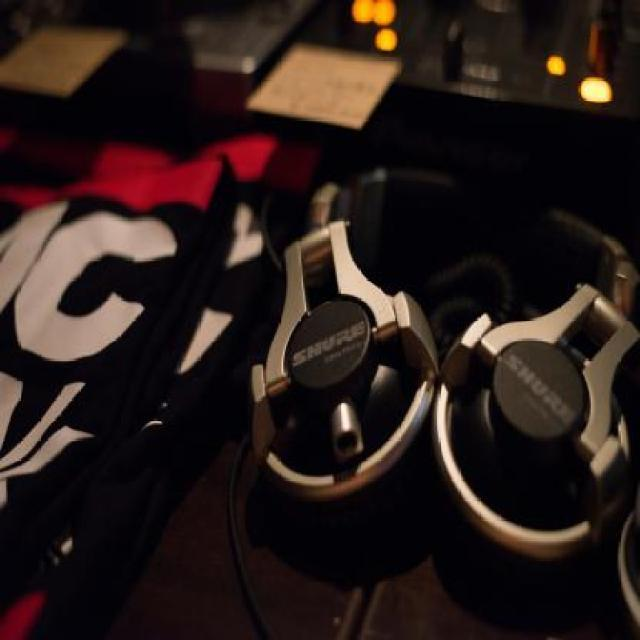earphone: (263, 181, 640, 541)
